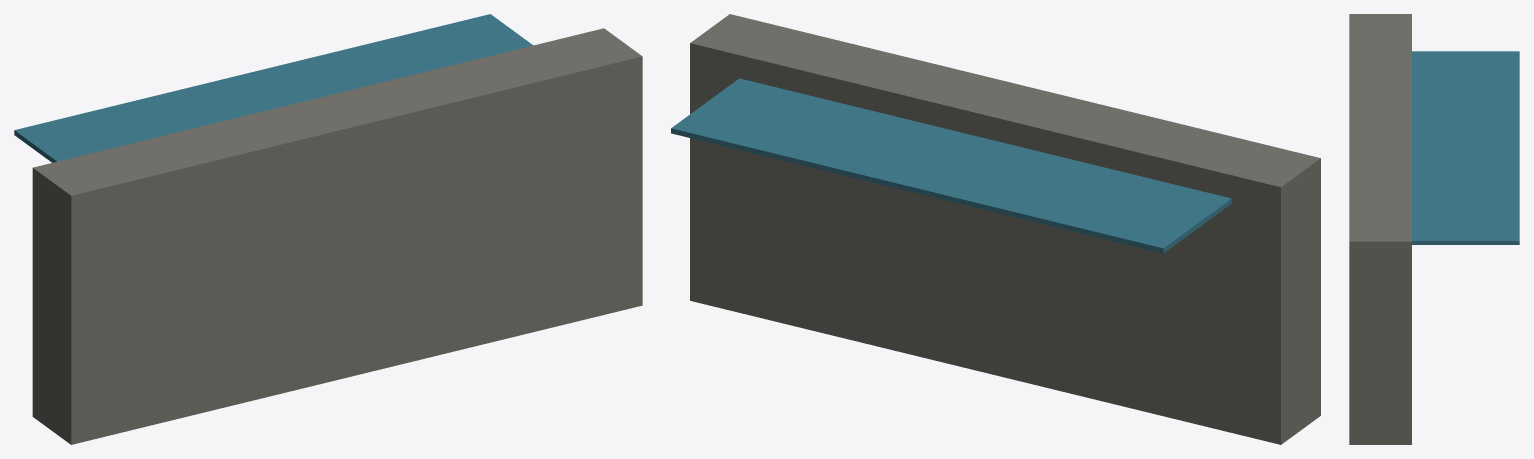
File: hydroelectric-dam.glb
The picture shows the model from 3 angles, left to right: view 1: azimuth 30°, elevation 25°; view 2: azimuth 150°, elevation 25°; view 3: azimuth 270°, elevation 25°; orthographic projection. The views are drawn at different scales.
Parts seen in each view (by area): view 1: hydroelectric-dam-static-dam-concrete, hydroelectric-dam-static-dam-water; view 2: hydroelectric-dam-static-dam-concrete, hydroelectric-dam-static-dam-water; view 3: hydroelectric-dam-static-dam-concrete, hydroelectric-dam-static-dam-water.
Boxes of the visible parts, x1,y1,x2,y2 form: hydroelectric-dam-static-dam-concrete: (32,28,642,444); hydroelectric-dam-static-dam-water: (14,14,532,162); hydroelectric-dam-static-dam-concrete: (690,14,1320,444); hydroelectric-dam-static-dam-water: (671,78,1231,253); hydroelectric-dam-static-dam-concrete: (1349,14,1411,444); hydroelectric-dam-static-dam-water: (1412,51,1519,244).
Bounding box in the file's own units: 12 × 5 × 3.8.
